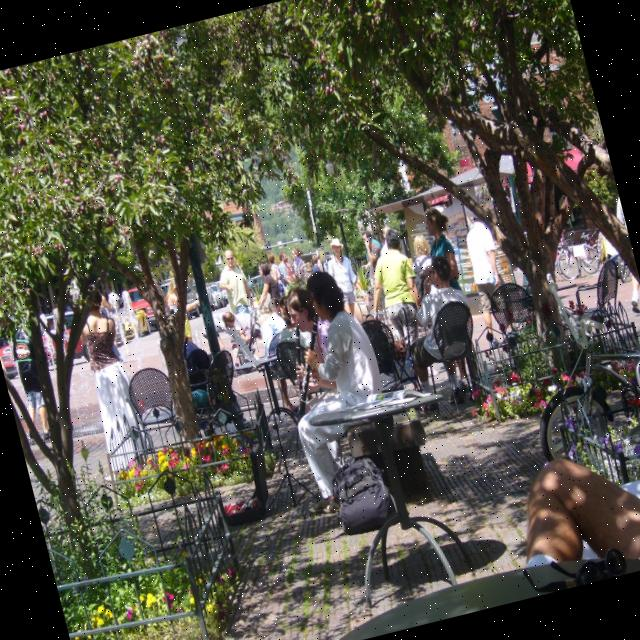clarinet: (272, 313, 343, 422)
